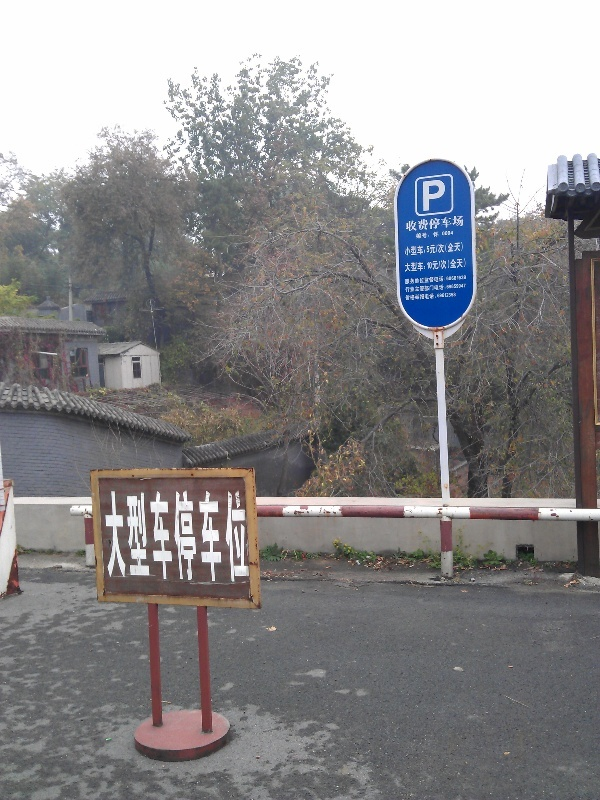text: (113, 490, 128, 583), (129, 490, 144, 583), (145, 490, 160, 583), (161, 490, 176, 583), (177, 490, 192, 583), (193, 490, 208, 583), (209, 490, 224, 583), (225, 490, 240, 583), (241, 490, 251, 583), (104, 490, 112, 583), (433, 179, 446, 212), (423, 179, 432, 212), (449, 215, 465, 232), (417, 215, 432, 232), (433, 215, 448, 232), (417, 258, 432, 273), (433, 258, 448, 273), (449, 258, 464, 273), (417, 242, 432, 256), (433, 242, 448, 256), (449, 242, 464, 256), (406, 215, 416, 232), (405, 258, 416, 273), (405, 242, 416, 256), (417, 275, 432, 285), (433, 275, 448, 285), (449, 275, 464, 285), (417, 283, 432, 293), (433, 283, 448, 293), (449, 283, 464, 293), (417, 293, 432, 301), (433, 293, 448, 301), (405, 275, 416, 285), (405, 283, 416, 293), (417, 232, 430, 240), (433, 232, 448, 238), (405, 293, 416, 301), (449, 293, 457, 301), (442, 231, 448, 237), (449, 231, 455, 237), (465, 258, 467, 273), (465, 275, 467, 285), (465, 283, 466, 293)
